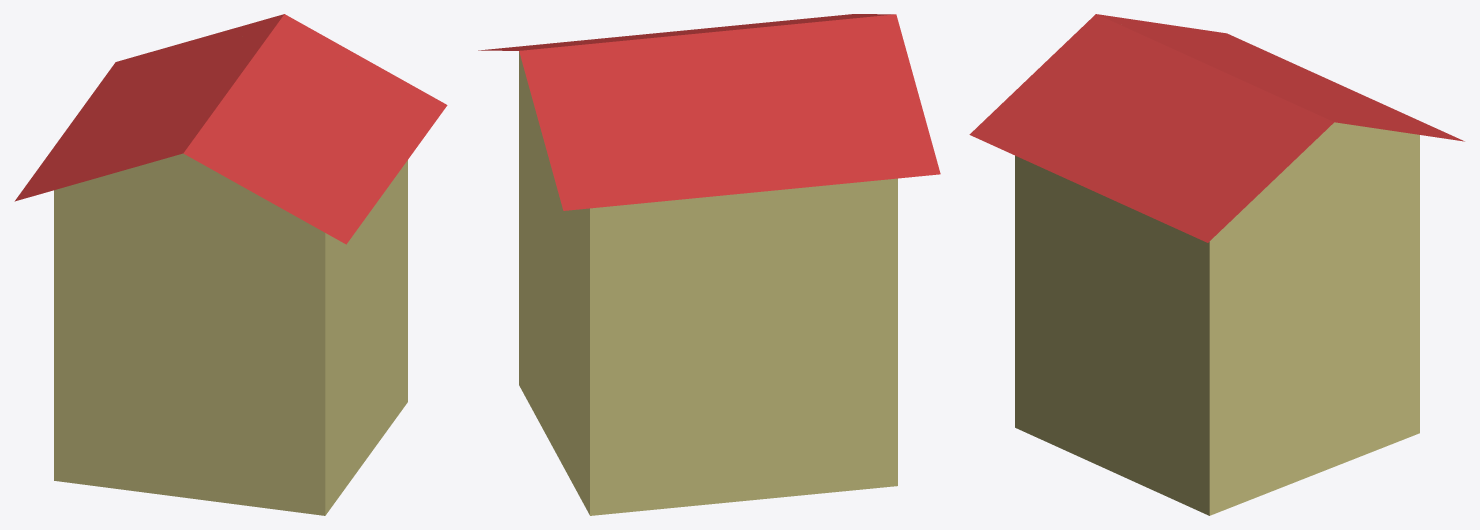
3 renders of one model, left to right at view 1: azimuth 30°, elevation 25°; view 2: azimuth 150°, elevation 25°; view 3: azimuth 270°, elevation 25°, orthographic. The views are drawn at different scales.
Parts seen in each view (by area): view 1: group_5, group_3, group_4; view 2: group_5, group_3, group_4; view 3: group_5, group_3, group_4.
Part boxes in pixels (<box>): group_5: <box>54,153,407,515</box>; group_3: <box>14,14,446,244</box>; group_4: <box>110,14,447,206</box>; group_5: <box>519,51,897,515</box>; group_3: <box>502,14,940,210</box>; group_4: <box>478,14,896,205</box>; group_5: <box>1015,122,1419,515</box>; group_3: <box>969,14,1464,242</box>; group_4: <box>1029,14,1349,242</box>.
Size of the model in its own units: 15.4 by 15.41 by 12.44.
